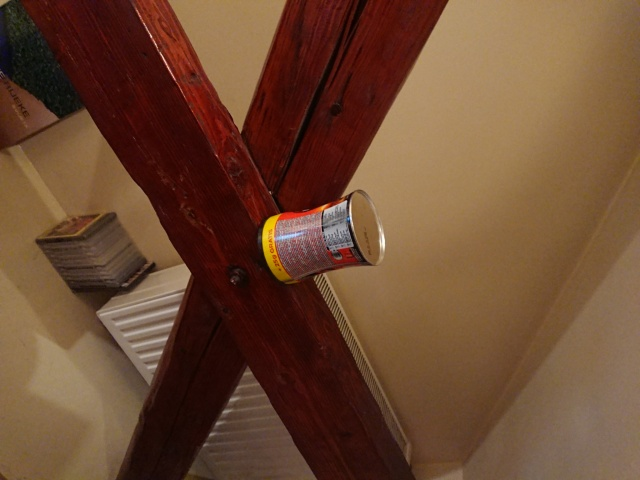Nescafe Classic 225g: (253, 187, 389, 289)
